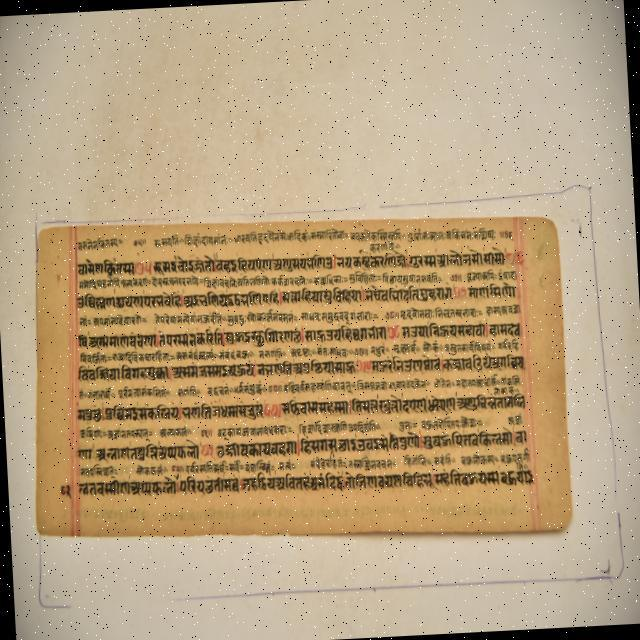text_paragraph: (35, 214, 573, 535)
